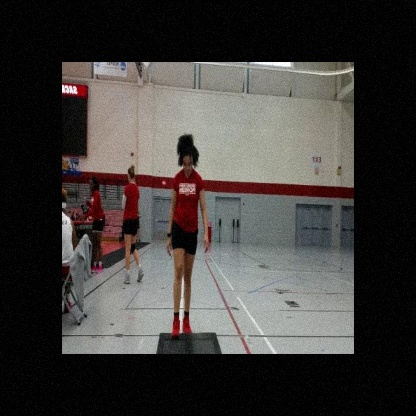lateral_flexion_normal: (165, 129, 211, 343)
stance_width_narrow: (164, 163, 211, 342)
